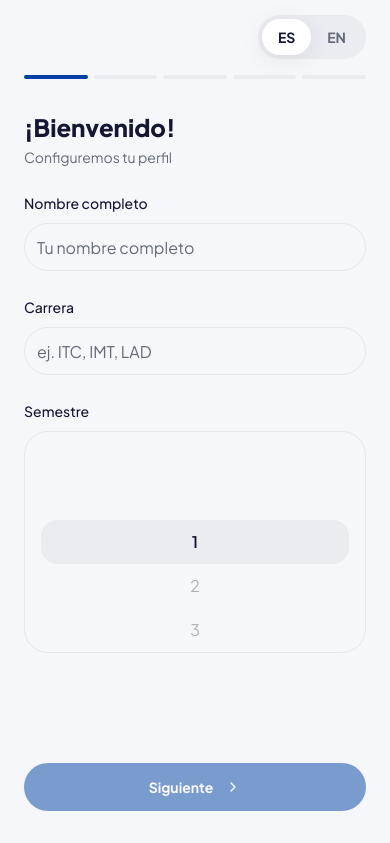
Test: Onboarding: la puerta legal › el paso legal es el ULTIMO, no uno del que se pueda seguir adelante
Type "Ana" into the field labelled "Nombre completo". click: [195, 247]
box: [24,223,366,271]
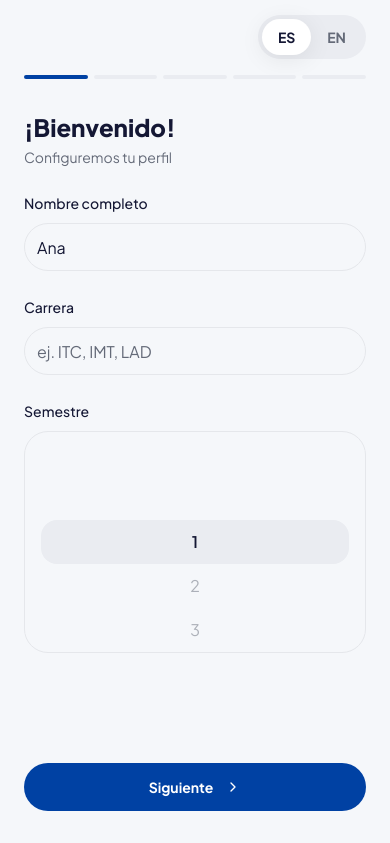
Click the button "Siguiente". click: [195, 787]
box: [24,763,366,811]
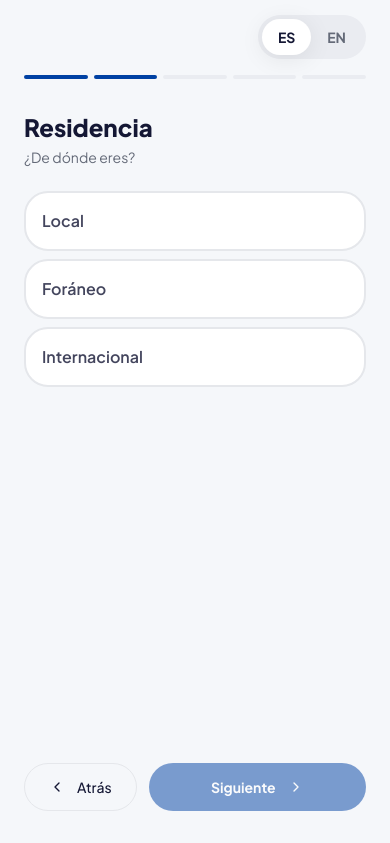
Click the button "Local". click: [63, 220]
box: [24,191,366,251]
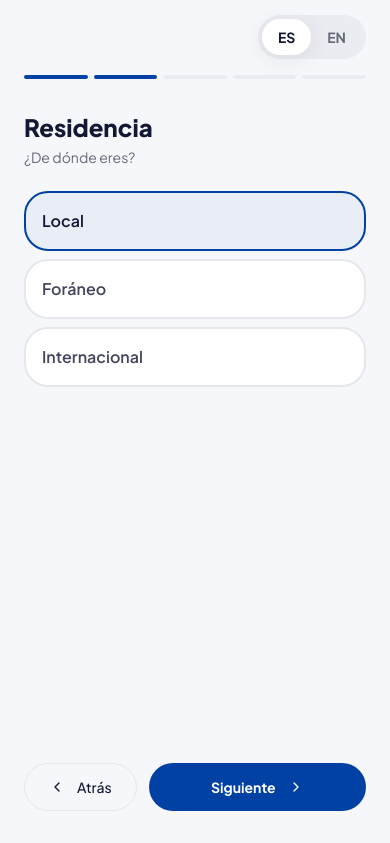
Click the button "Siguiente". click: [257, 787]
box: [149,763,366,811]
(page scrolled)
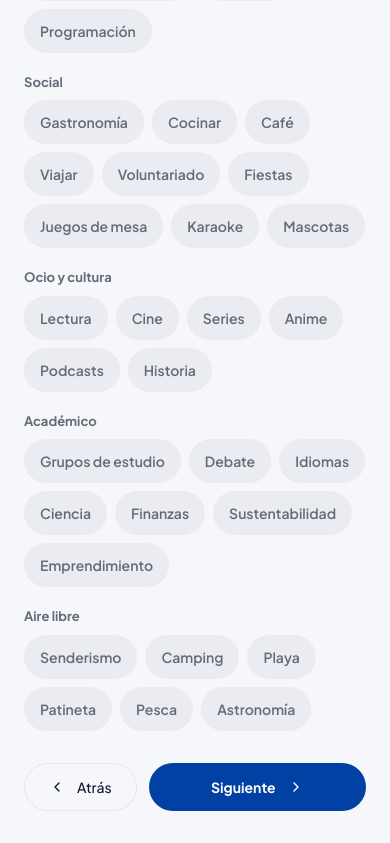
Click the button "Siguiente". click: [257, 786]
box: [149,762,366,810]
(page scrolled)
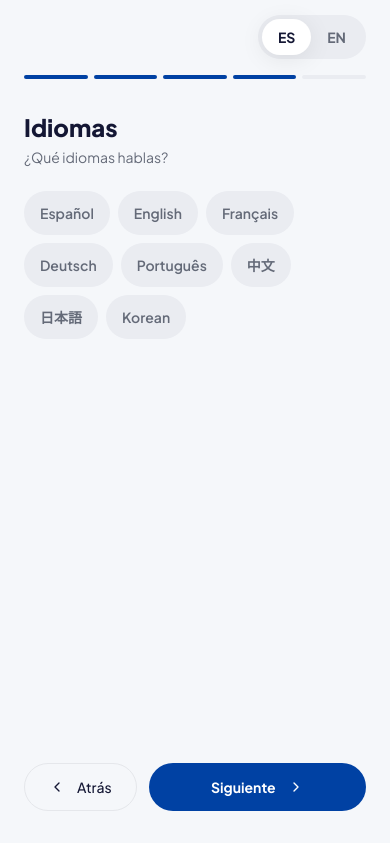
Click the button "Siguiente". click: [257, 787]
box: [149,763,366,811]
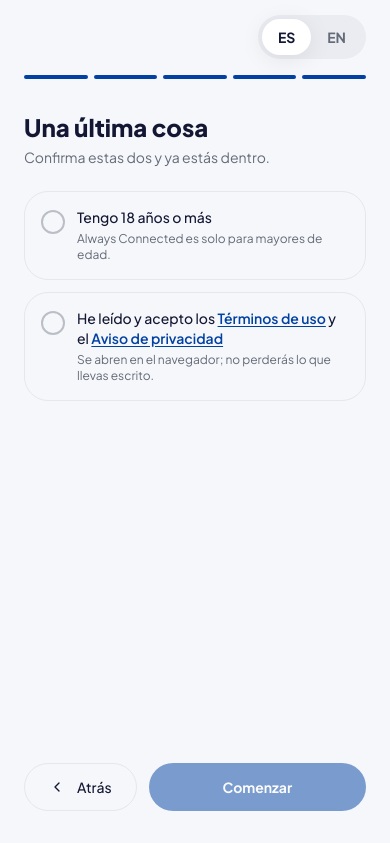
Check: the heading "Una última cosa" is shown, box [24,112,208,142]
Check: the button "Siguiente" is gone
